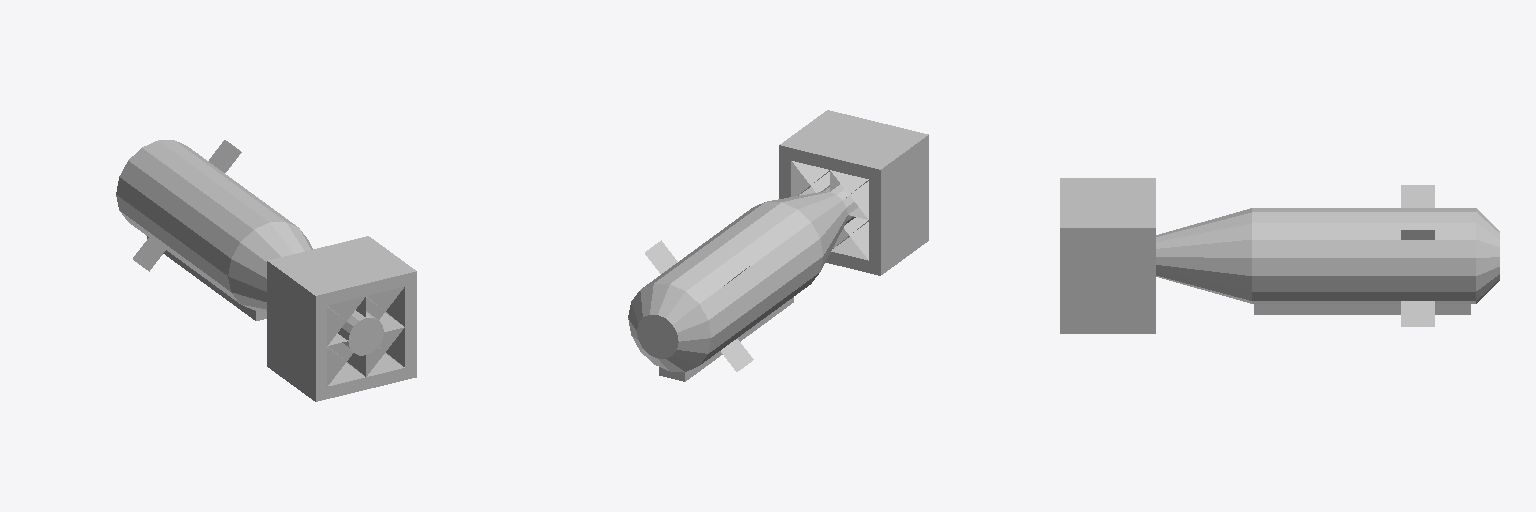
The model's file is little_boy.obj.
3 views of the same model, side by side, from view 1: azimuth 30°, elevation 25°; view 2: azimuth 150°, elevation 25°; view 3: azimuth 270°, elevation 25° (orthographic).
Parts seen in each view (by area): view 1: Little_Boy_Cylinder_Cylinder.002; view 2: Little_Boy_Cylinder_Cylinder.002; view 3: Little_Boy_Cylinder_Cylinder.002.
Boxes of the visible parts, <box> form: Little_Boy_Cylinder_Cylinder.002: <box>116,140,416,401</box>; Little_Boy_Cylinder_Cylinder.002: <box>628,110,928,381</box>; Little_Boy_Cylinder_Cylinder.002: <box>1060,178,1499,333</box>.
Size of the model in its own units: 0.85 by 0.85 by 3.2.